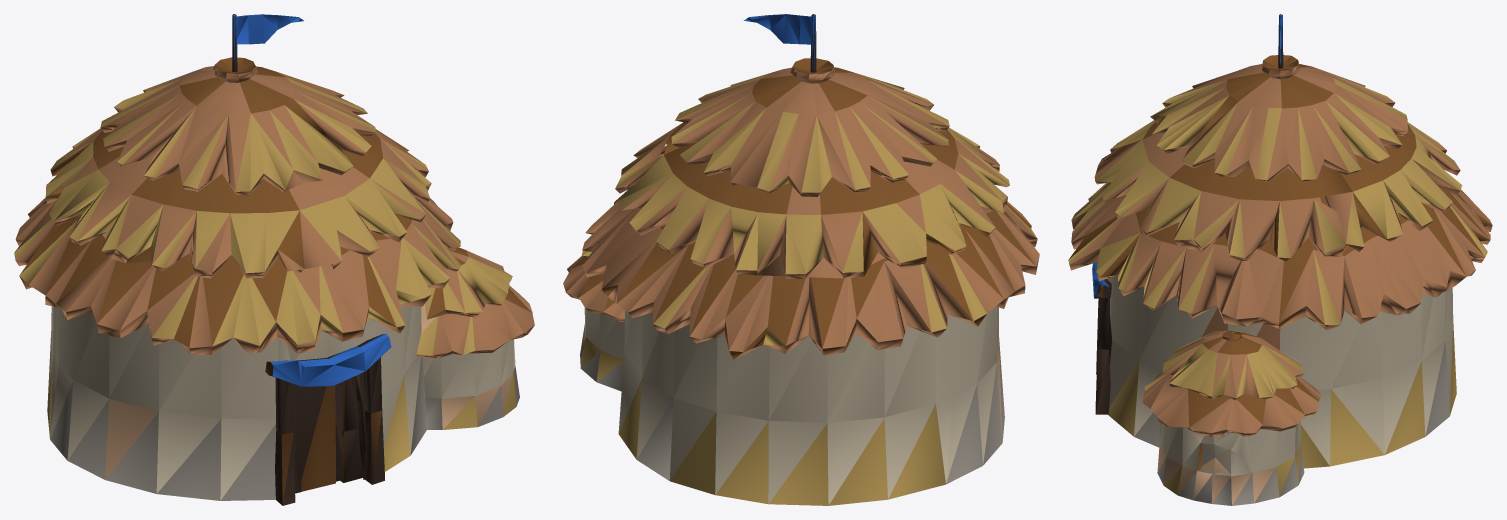
File: building.dwelling_large_v3.glb
The picture shows the model from 3 angles, left to right: view 1: azimuth 30°, elevation 25°; view 2: azimuth 150°, elevation 25°; view 3: azimuth 270°, elevation 25°; orthographic projection. The views are drawn at different scales.
Visible parts, largest first — view 1: asset; view 2: asset; view 3: asset.
Part boxes in pixels (left/top/right/bottom): asset: left=14, top=14, right=534, bottom=505; asset: left=563, top=14, right=1039, bottom=505; asset: left=1068, top=14, right=1492, bottom=505.
Bounding box in the file's own units: 2.2 × 1.92 × 1.95.
